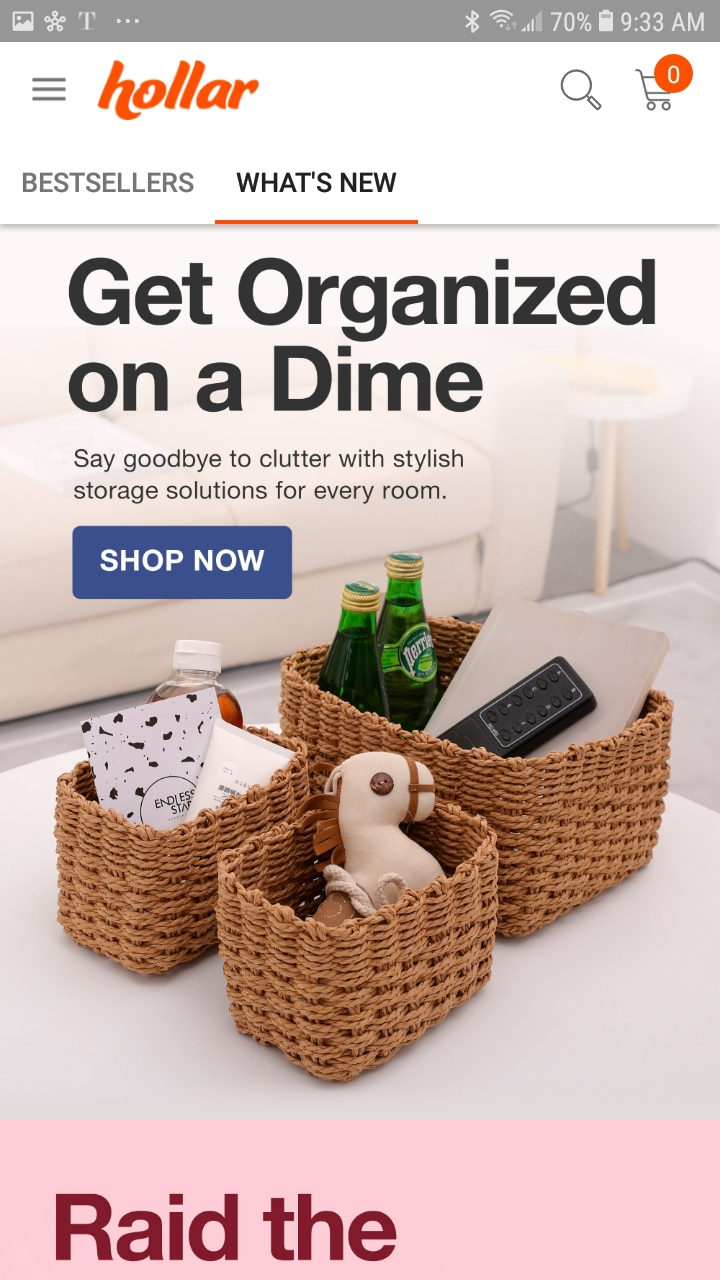BackgroundImage: (1, 226, 720, 1280)
Icon: (635, 54, 693, 113), (561, 70, 603, 113), (33, 78, 68, 103)
Image: (98, 60, 260, 122)
Text: (69, 257, 656, 414), (56, 1192, 398, 1262), (74, 449, 464, 505), (23, 173, 195, 194), (236, 172, 397, 194)
TextButton: (72, 526, 293, 600)
UpperTaskBar: (1, 1, 720, 43)
